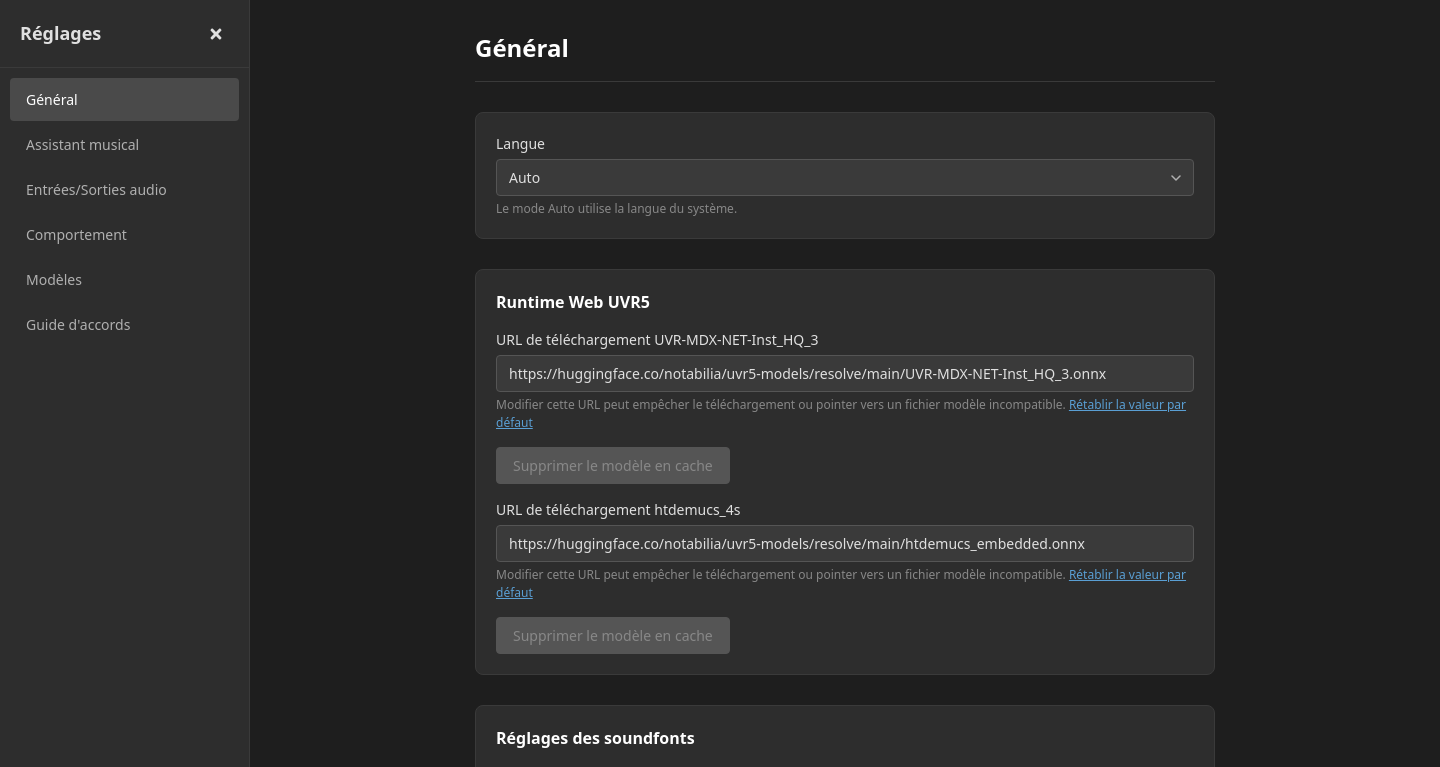
MusicAssistantSettings › uses the confirmed tab and title translation for fr_fr
Click the button "Assistant musical" at (124, 144), box [10,123,239,166]
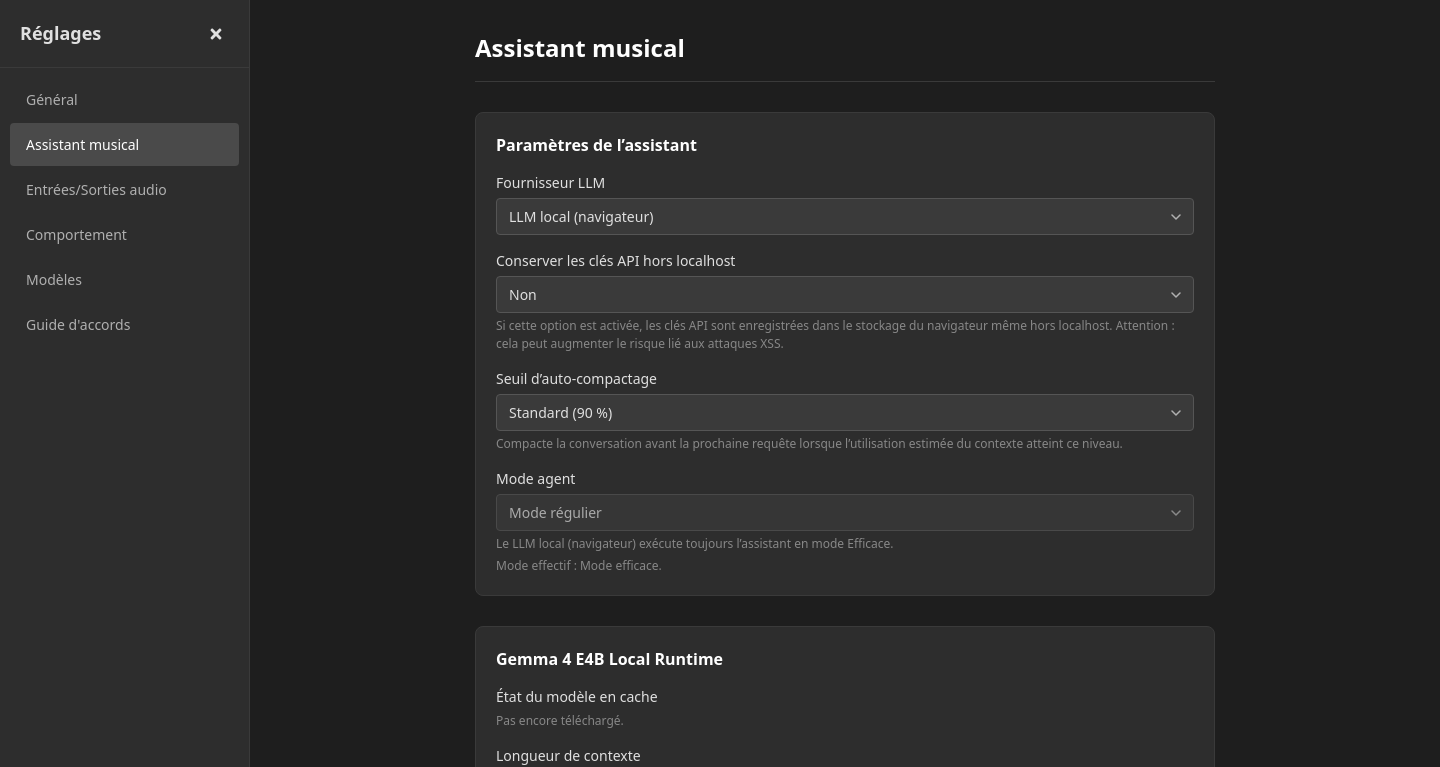
Check: the heading "Assistant musical" is shown, box [475,31,685,64]
